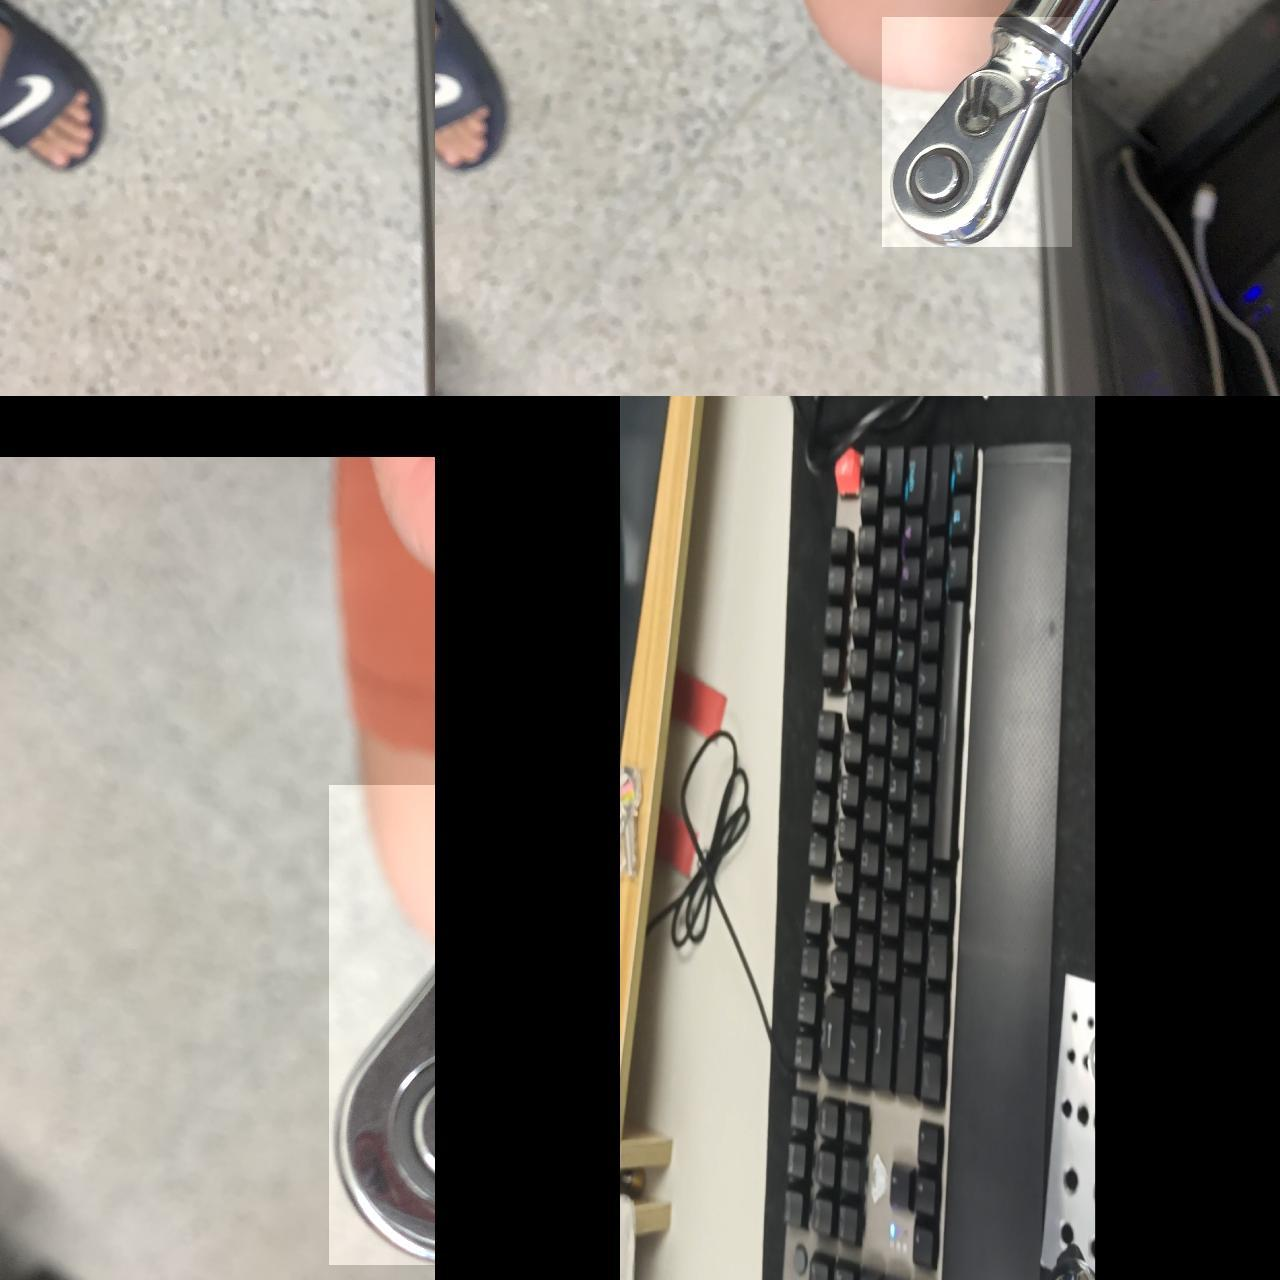Tool: (329, 784, 435, 1264), (881, 16, 1073, 246)
